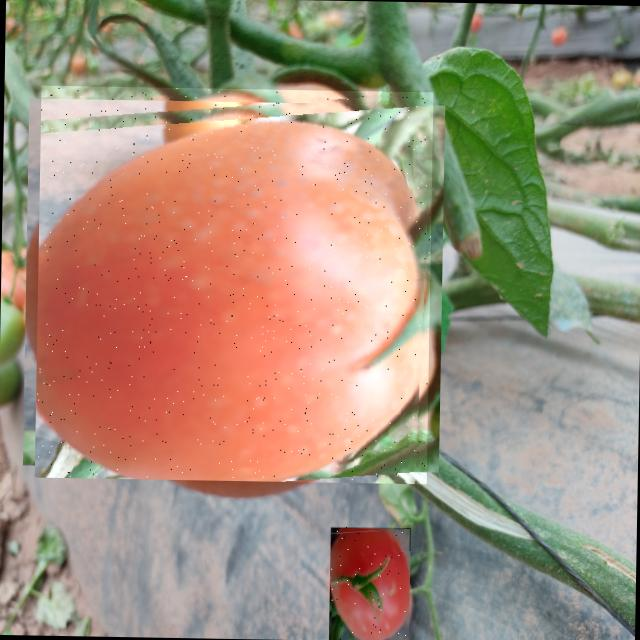Unripe Tomato: (34, 85, 433, 484), (328, 526, 410, 640)
